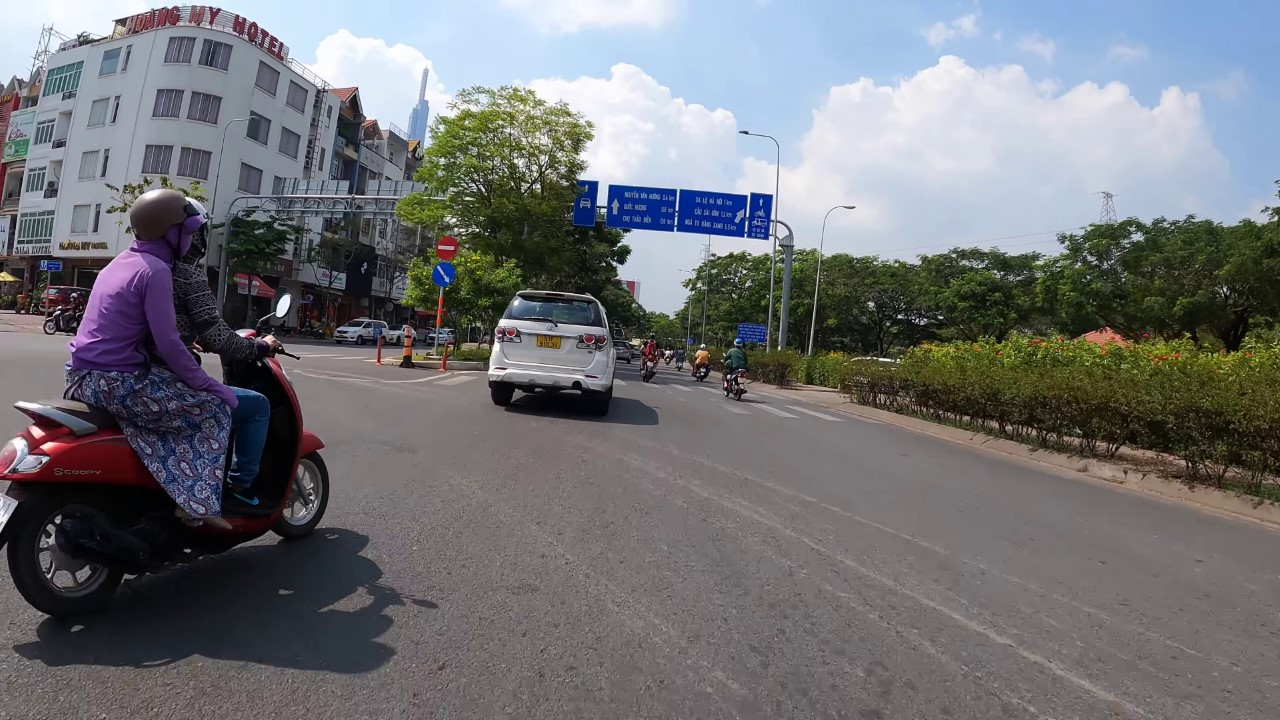cam_nguoc_chieu: (433, 234, 460, 261)
huong_phai_di_vong: (430, 260, 459, 289)
